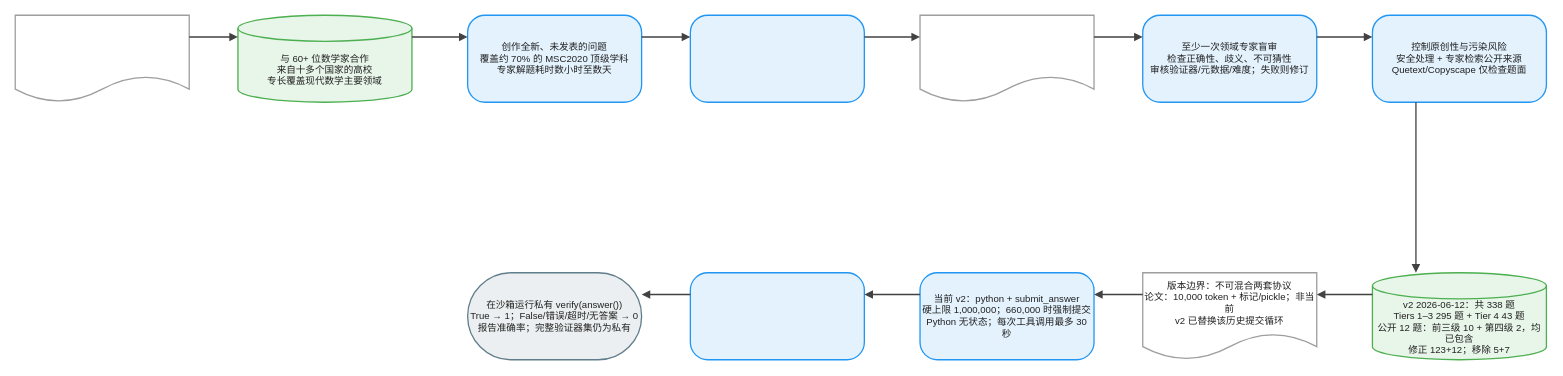
Image size: 1563x376. Some labels were removed from this diagram. The centre of each missing label's shape, as x and y in pixels:
执行四项命题要求 原创 · 可自动核验 不可猜中 · 计算上可处理: the point at 777,58
提交 answer()；无参数 返回指定类型对象；不输出且无注释 answer 最多运行 30 秒；未提交即错误: the point at 777,316
提交题面 + 详细解答 + 验证器 学科与技巧分类 背景 · 创造 · 执行三维难度: the point at 1006,58
证据：arXiv:2411.04872v7 官方 gist @ 39d23771 + 当前 v2 页面 私有基准；无公开完整数据集仓库: the point at 101,58
